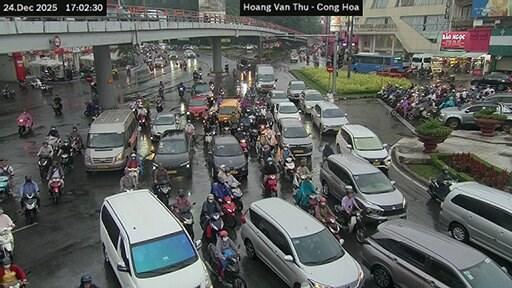motorbike: (221, 248, 245, 287), (339, 211, 364, 242), (172, 205, 194, 238), (294, 189, 319, 215), (426, 178, 454, 201), (202, 212, 223, 242), (220, 197, 236, 228), (205, 243, 220, 275), (22, 194, 37, 223), (323, 216, 341, 238), (230, 181, 243, 211), (0, 226, 11, 260), (156, 180, 169, 205), (48, 176, 60, 202), (263, 174, 277, 196), (281, 157, 294, 180), (16, 117, 31, 135), (83, 103, 102, 117), (38, 157, 49, 178), (0, 175, 10, 198), (0, 85, 15, 99), (45, 135, 60, 149), (0, 279, 26, 287), (249, 126, 258, 148), (60, 153, 70, 172), (204, 131, 213, 151), (70, 135, 80, 153), (128, 167, 137, 185), (185, 129, 195, 145), (38, 82, 51, 94), (138, 113, 147, 130), (51, 100, 61, 115), (240, 139, 248, 157), (29, 76, 41, 88), (333, 205, 342, 217), (156, 99, 163, 112), (178, 85, 184, 97), (112, 67, 118, 79), (19, 80, 26, 90), (157, 86, 163, 97), (192, 72, 198, 81), (208, 82, 214, 90), (224, 63, 227, 72), (192, 202, 195, 205), (297, 190, 300, 192)
